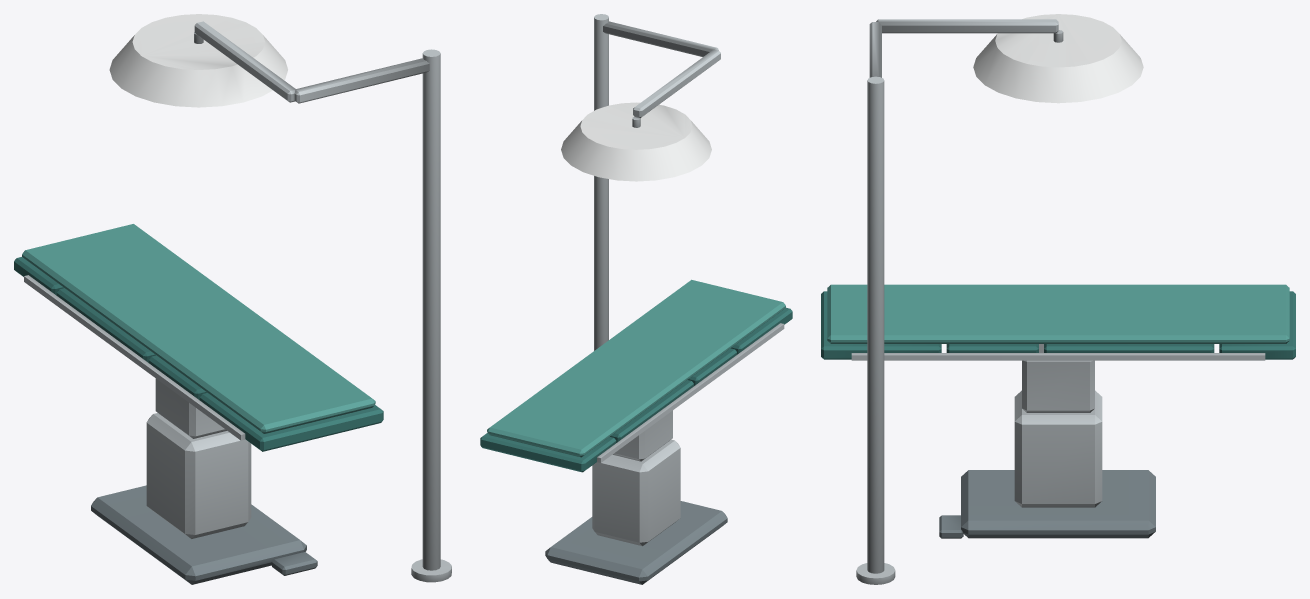
The model's file is or_table.glb.
3 renders of one model, left to right at view 1: azimuth 30°, elevation 25°; view 2: azimuth 150°, elevation 25°; view 3: azimuth 270°, elevation 25°, orthographic. The views are drawn at different scales.
Visible parts, largest first — view 1: pad, lamp_stand, column, lamp, base, table, rails; view 2: pad, lamp, column, lamp_stand, base, table, rails; view 3: pad, lamp_stand, column, lamp, base, table, rails.
Boxes of the visible parts, <box> form: pad: <box>22,224,375,433</box>; lamp_stand: <box>194,21,451,582</box>; column: <box>146,378,251,538</box>; lamp: <box>109,14,287,107</box>; base: <box>91,485,317,584</box>; table: <box>14,257,383,451</box>; rails: <box>24,275,245,440</box>; pad: <box>487,279,785,457</box>; lamp: <box>561,102,711,181</box>; column: <box>592,410,680,546</box>; lamp_stand: <box>594,14,720,350</box>; base: <box>545,501,727,584</box>; table: <box>480,307,792,472</box>; rails: <box>597,323,784,462</box>; pad: <box>827,284,1289,343</box>; lamp_stand: <box>856,19,1063,584</box>; column: <box>1014,344,1102,507</box>; lamp: <box>973,14,1143,103</box>; base: <box>939,470,1155,538</box>; table: <box>821,291,1295,359</box>; rails: <box>851,353,1265,360</box>.
Size of the model in its own units: 1.05 by 2.25 by 1.95.
